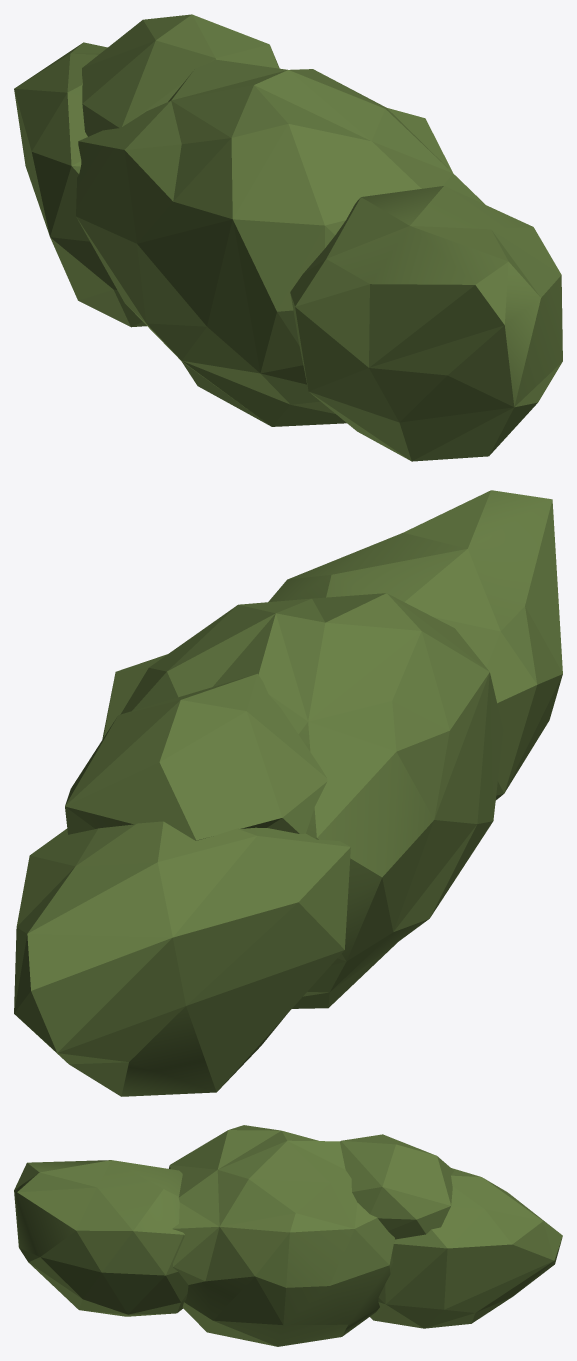
The model's file is wide bushfbx.fbx.
3 renders of one model, top to bottom at view 1: azimuth 30°, elevation 25°; view 2: azimuth 150°, elevation 25°; view 3: azimuth 270°, elevation 25°, orthographic. The views are drawn at different scales.
Parts seen in each view (by area): view 1: Icosphere.000; view 2: Icosphere.000; view 3: Icosphere.000.
Part boxes in pixels (<box>): Icosphere.000: <box>14,14,562,461</box>; Icosphere.000: <box>14,490,562,1096</box>; Icosphere.000: <box>14,1125,562,1346</box>.
Size of the model in its own units: 139 by 147 by 360.
